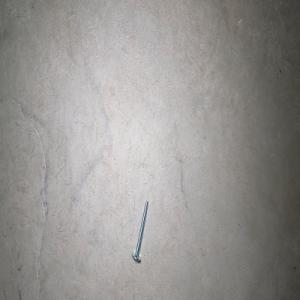Bolt: (131, 198, 148, 261)
